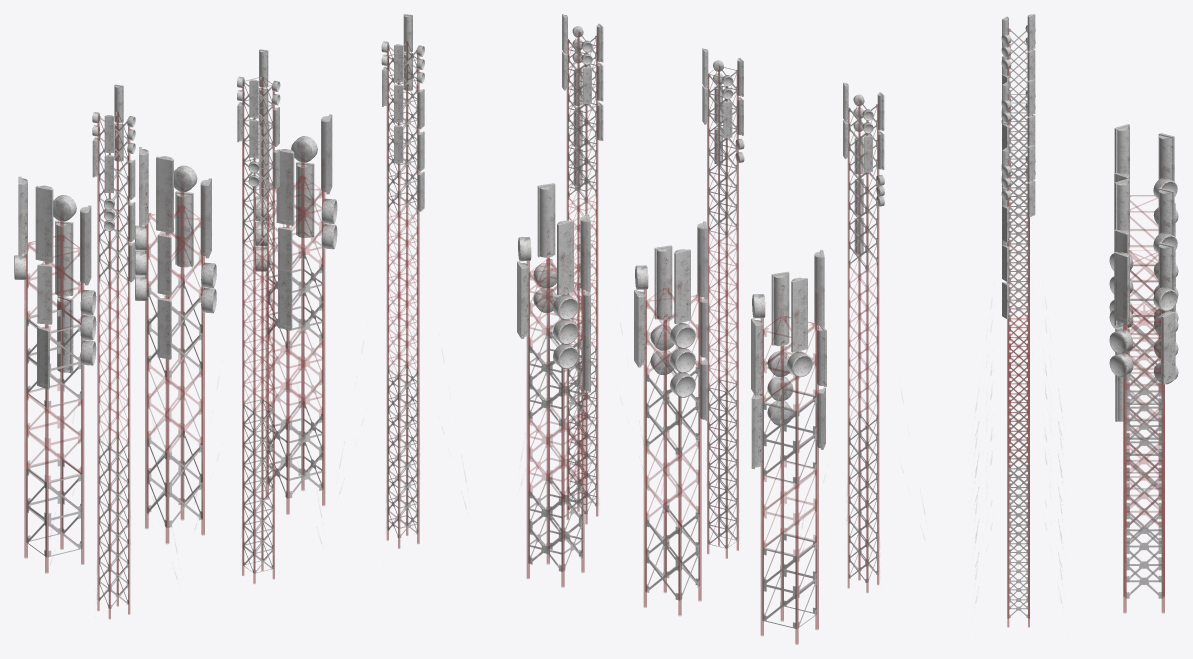
The model's file is Telecommunication_Tower_Low-Poly_Free.glb.
3 renders of one model, left to right at view 1: azimuth 30°, elevation 25°; view 2: azimuth 150°, elevation 25°; view 3: azimuth 270°, elevation 25°, orthographic. The views are drawn at different scales.
Visible parts, largest first — view 1: unnamed (×6); view 2: unnamed (×6); view 3: unnamed (×6).
Boxes of the visible parts, x1=… form: unnamed (×6): x1=14, y1=14, x2=424, y2=619; unnamed (×6): x1=517, y1=14, x2=884, y2=644; unnamed (×6): x1=1001, y1=14, x2=1178, y2=627.
Size of the model in its own units: 16.05 by 20.58 by 8.21.
Materials: 1 (1 with a texture image).
